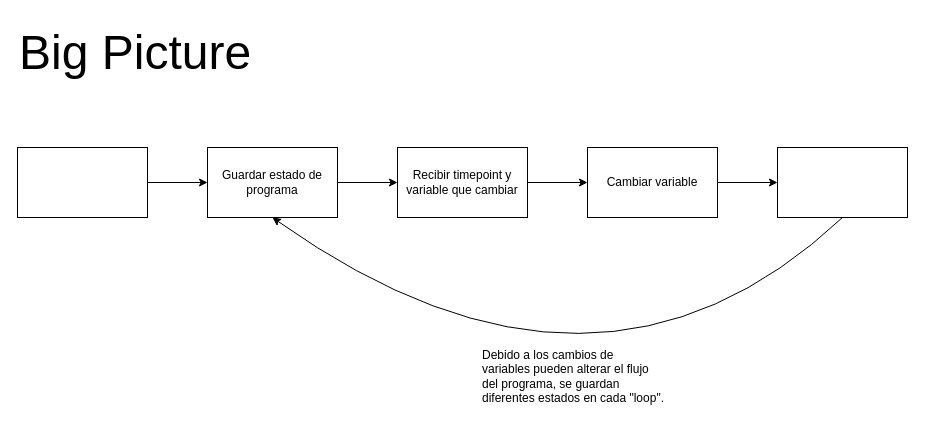
Image size: 925x434. Some labels were removed from this diagram. Here are the shapes that lost their labels. From the top down, the centre of each, then its label:
(x=82, y=182): Identificar heap
(x=842, y=182): Llamar continuación
